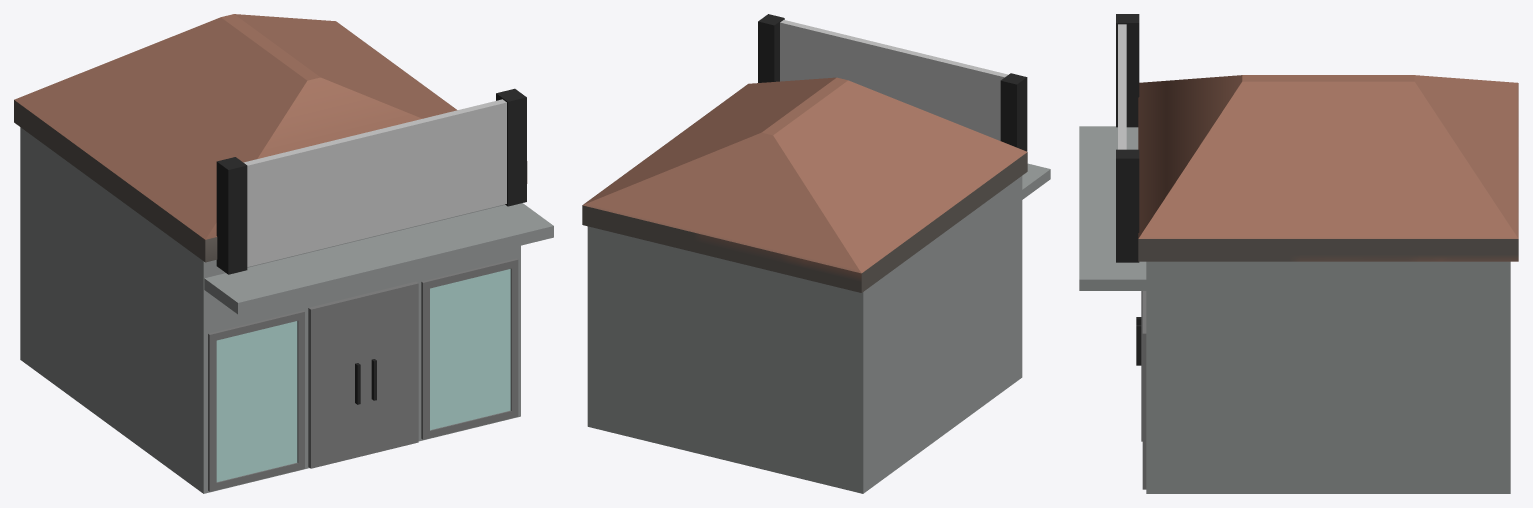
File: BangunanGenericVar1_2.fbx
The picture shows the model from 3 angles, left to right: view 1: azimuth 30°, elevation 25°; view 2: azimuth 150°, elevation 25°; view 3: azimuth 270°, elevation 25°; orthographic projection. The views are drawn at different scales.
Parts seen in each view (by area): view 1: Bangunan_Var1_02_rev; view 2: Bangunan_Var1_02_rev; view 3: Bangunan_Var1_02_rev.
Boxes of the visible parts, left/top/right/bottom form: Bangunan_Var1_02_rev: left=14, top=14, right=553, bottom=493; Bangunan_Var1_02_rev: left=582, top=14, right=1050, bottom=493; Bangunan_Var1_02_rev: left=1079, top=14, right=1518, bottom=493.
Bounding box in the file's own units: 298 × 301 × 354.
1 material, 1 textured.
